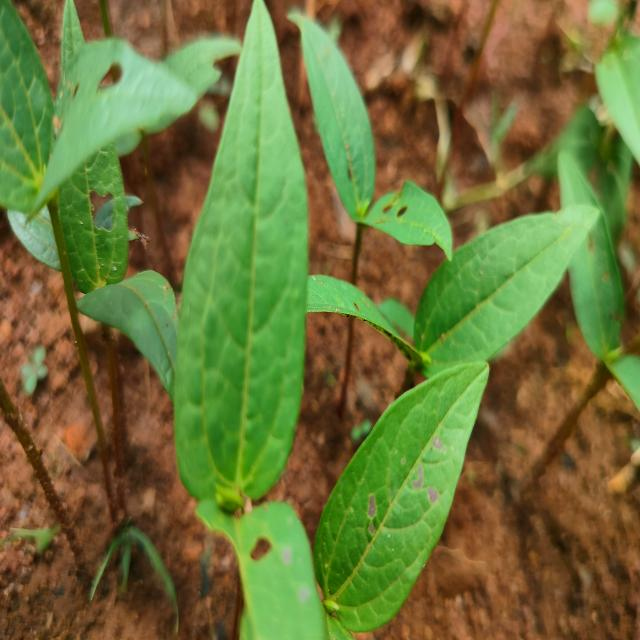Black gram_healthy: (176, 4, 306, 505), (318, 360, 489, 627), (414, 204, 596, 372)
